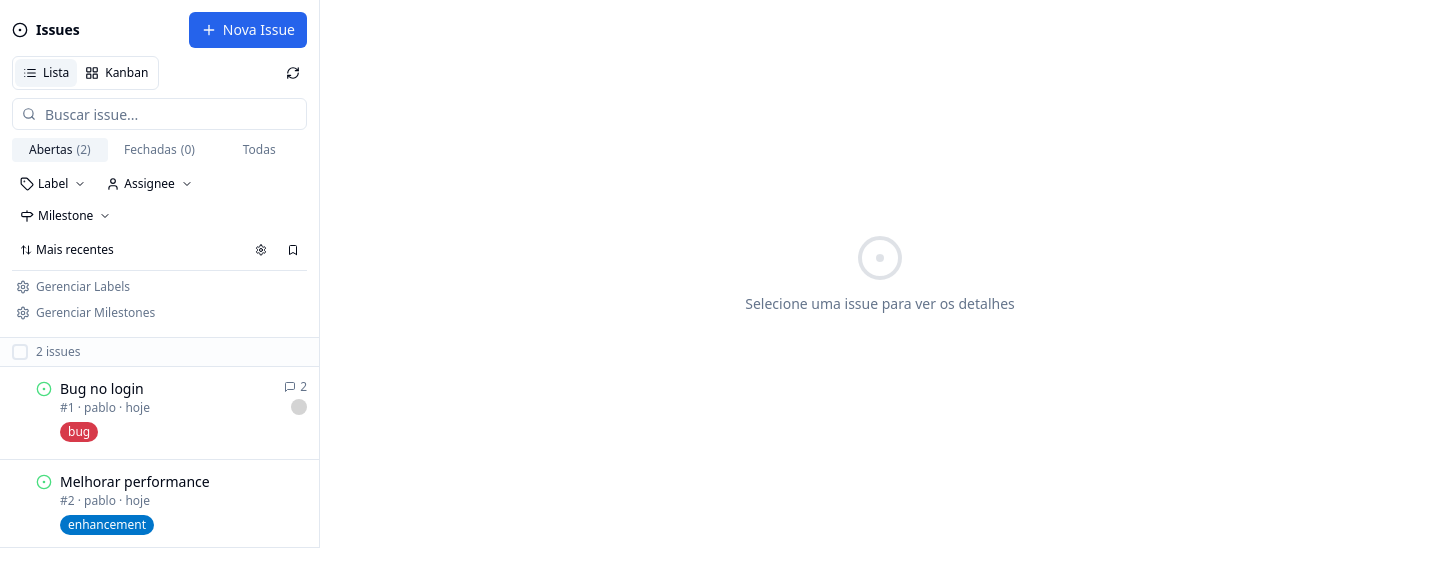
Test: IssuesManager › seleção de issue › clicar na issue exibe seu detalhe
What coordinates should you click on to do the following:
click the text "Bug no login"
I would click on:
 (102, 389)
Its box is left=60, top=379, right=144, bottom=398.
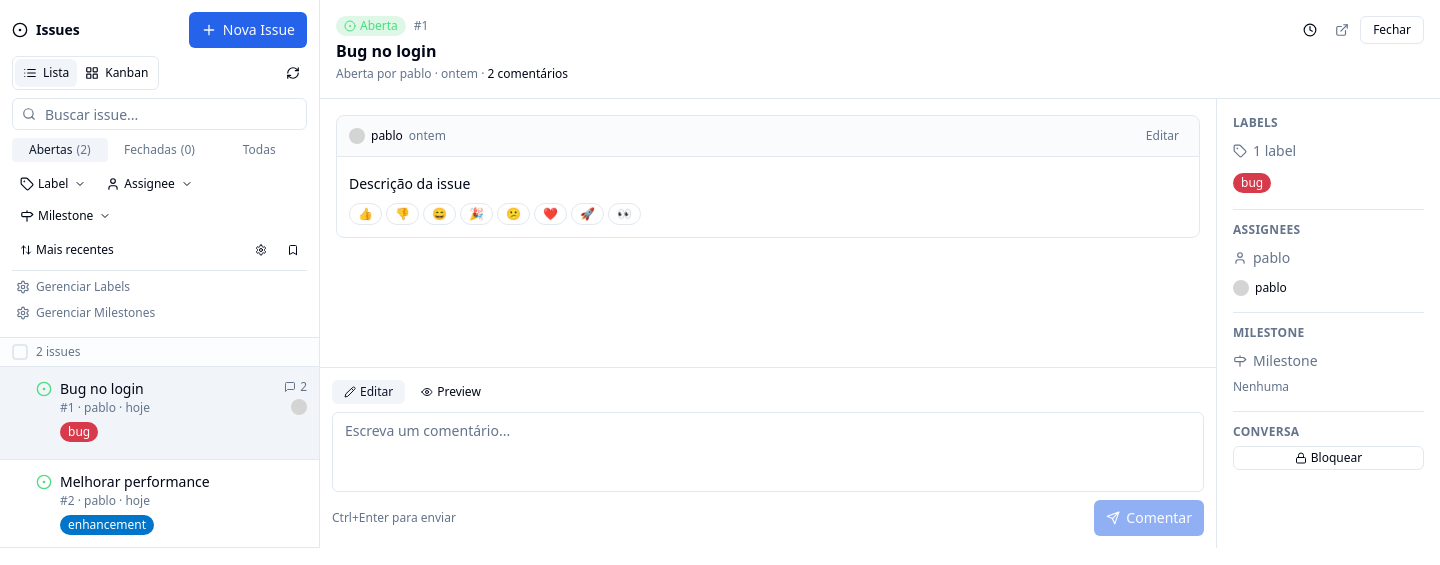
Check: the text "#1" is shown, box left=414, top=18, right=428, bottom=34
